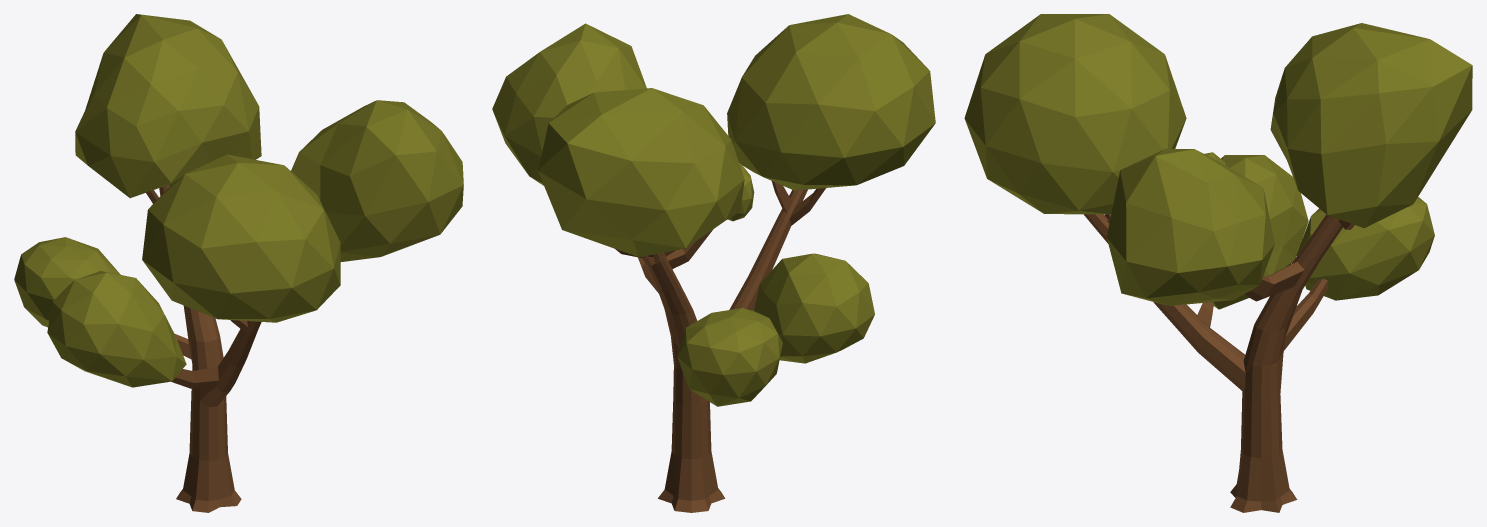
The picture shows the model from 3 angles, left to right: view 1: azimuth 30°, elevation 25°; view 2: azimuth 150°, elevation 25°; view 3: azimuth 270°, elevation 25°; orthographic projection. The views are drawn at different scales.
Visible parts, largest first — view 1: Icosphere.001, Cylinder.009; view 2: Icosphere.001, Cylinder.009; view 3: Icosphere.001, Cylinder.009.
Part boxes in pixels (x1=…): Icosphere.001: x1=14, y1=14, x2=463, y2=387; Cylinder.009: x1=146, y1=185, x2=261, y2=512; Icosphere.001: x1=492, y1=14, x2=935, y2=406; Cylinder.009: x1=615, y1=181, x2=825, y2=512; Icosphere.001: x1=964, y1=14, x2=1472, y2=309; Cylinder.009: x1=1084, y1=214, x2=1354, y2=512.
Bounding box in the file's own units: 7.99 × 8.71 × 8.54.
